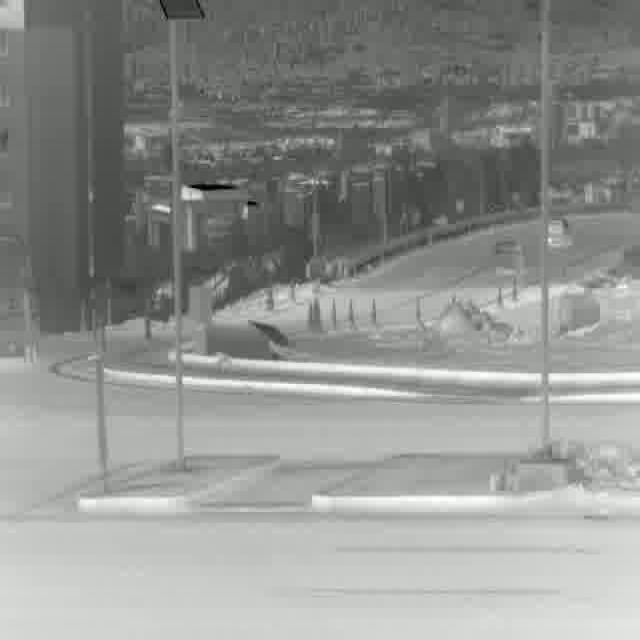Car: (0, 228, 36, 360), (492, 238, 525, 286), (548, 216, 572, 251)
